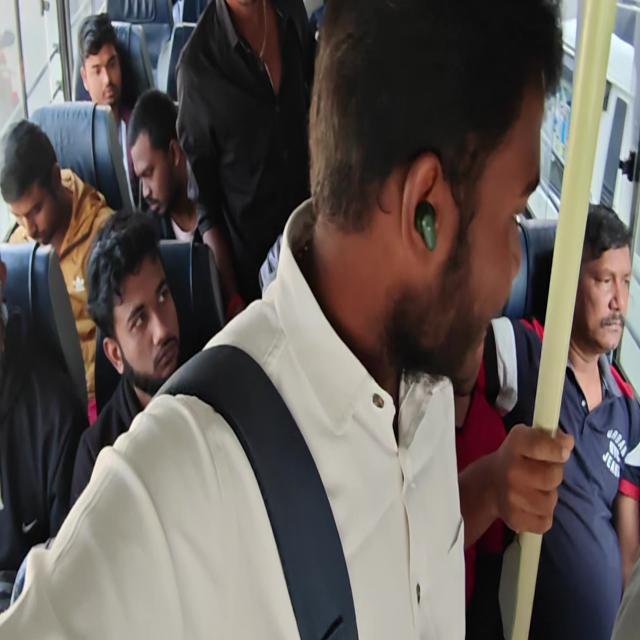person: (1, 0, 568, 638), (453, 201, 639, 638), (174, 0, 317, 319), (0, 118, 119, 426), (68, 207, 182, 509), (0, 254, 89, 611), (126, 87, 244, 321), (76, 12, 141, 212), (126, 87, 203, 245)
